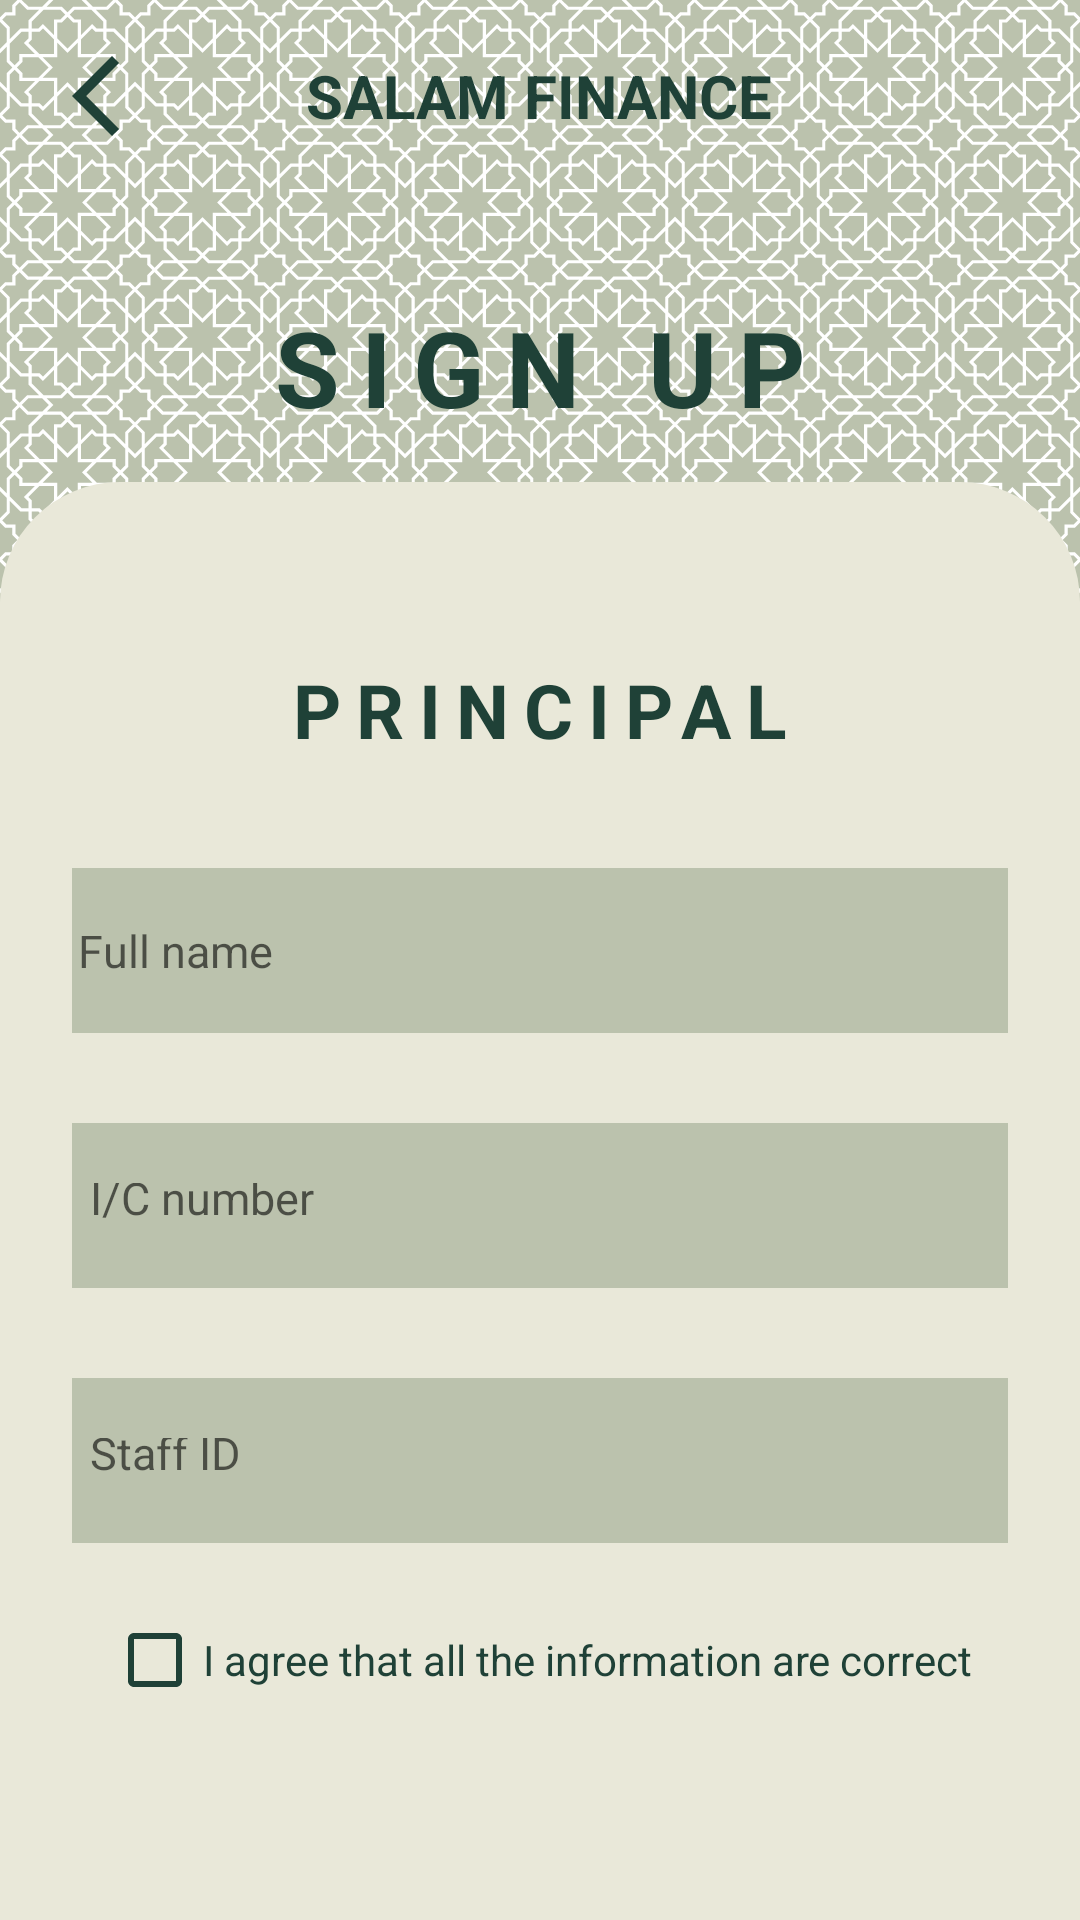

Icons on this 1080w x 1920h Android screen, each with its box as (x1, y1, x2, y2):
arrow back: (48, 48, 144, 144)
